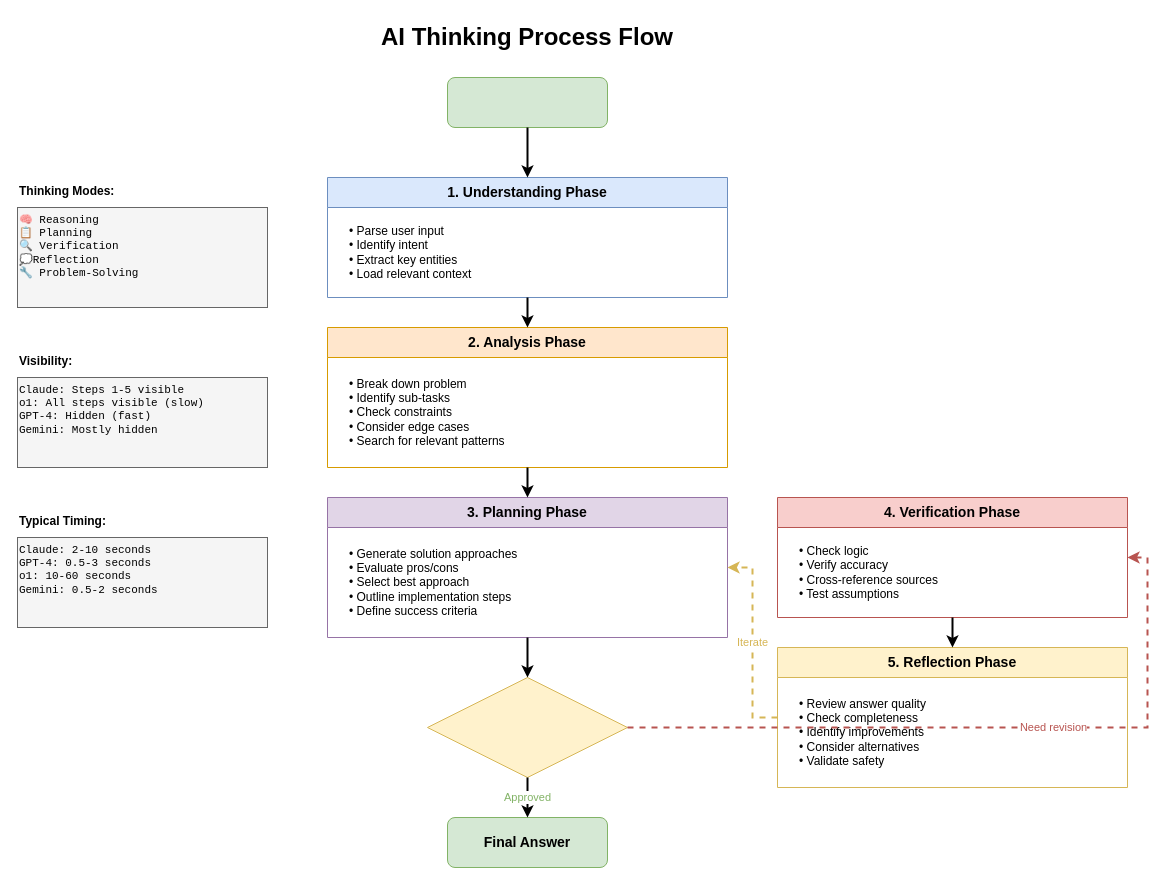
Image size: 1174x885. Some labels were removed from this diagram. Here are the shapes that lost their labels. From the top down, the centre of each, then its label:
(527,102): User Question
(527,727): Is solution valid?
